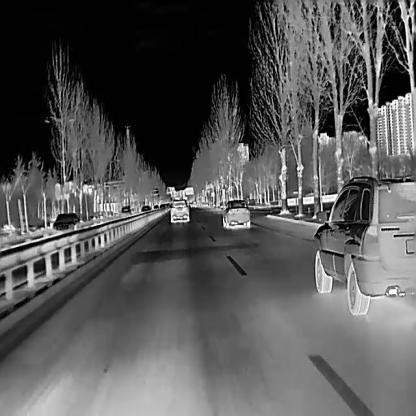car: (313, 172, 415, 316), (221, 198, 250, 228), (52, 210, 80, 238), (169, 197, 189, 222), (121, 205, 133, 221), (141, 204, 151, 214), (152, 203, 158, 212), (159, 202, 165, 210), (190, 201, 196, 207)
